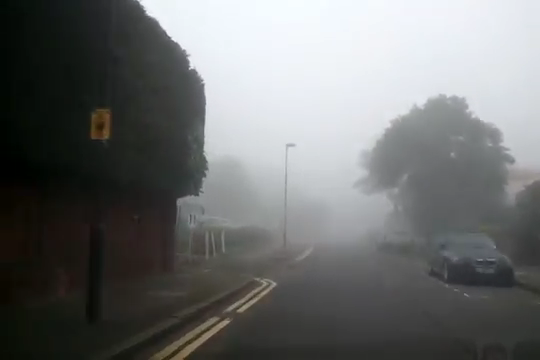car: (425, 229, 516, 288)
